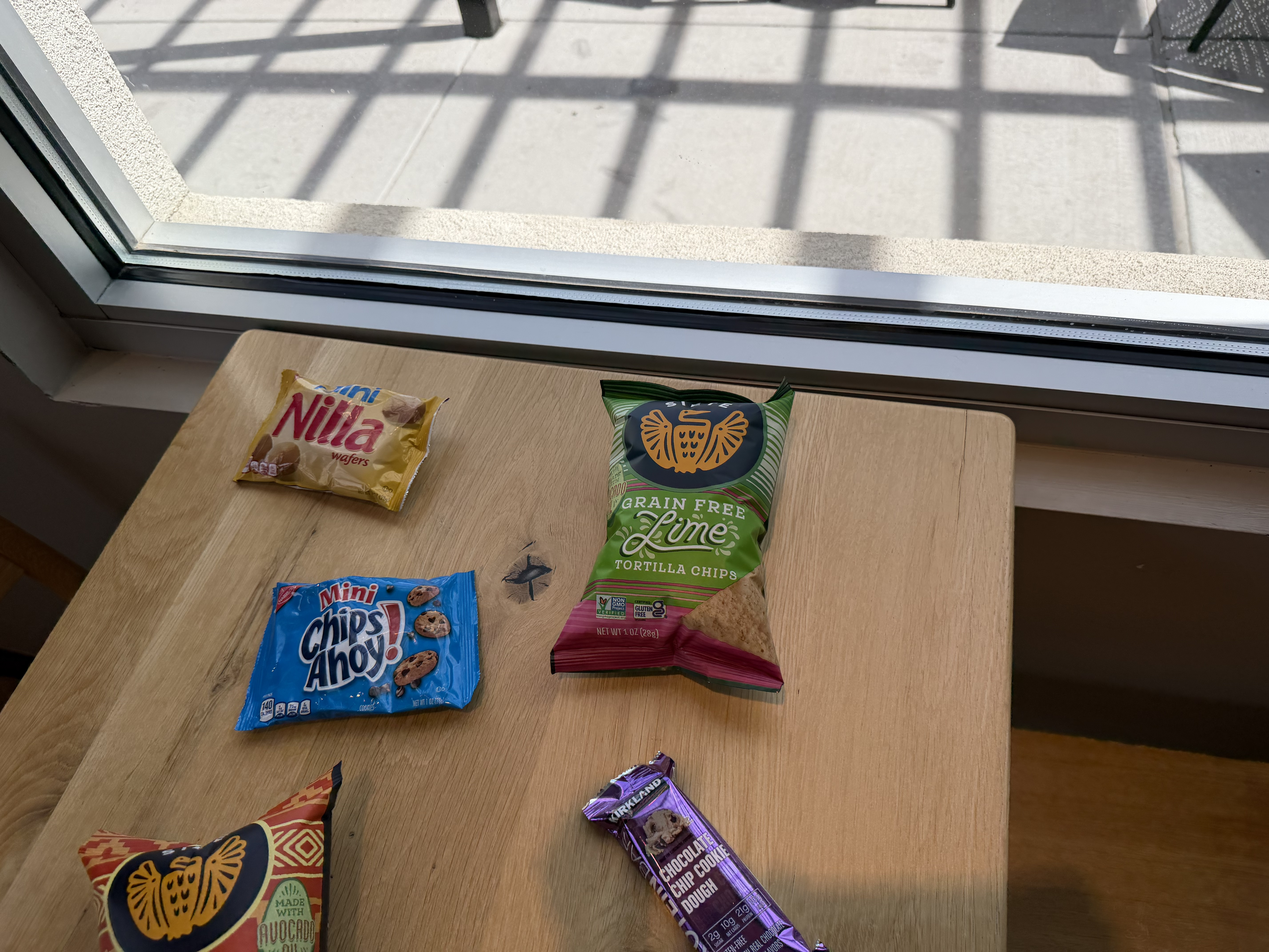chips_ahoy: (256, 569, 503, 720)
chocolate_chip_cookie_dough: (571, 752, 837, 952)
lime: (574, 367, 834, 720)
nilla: (244, 364, 449, 516)
